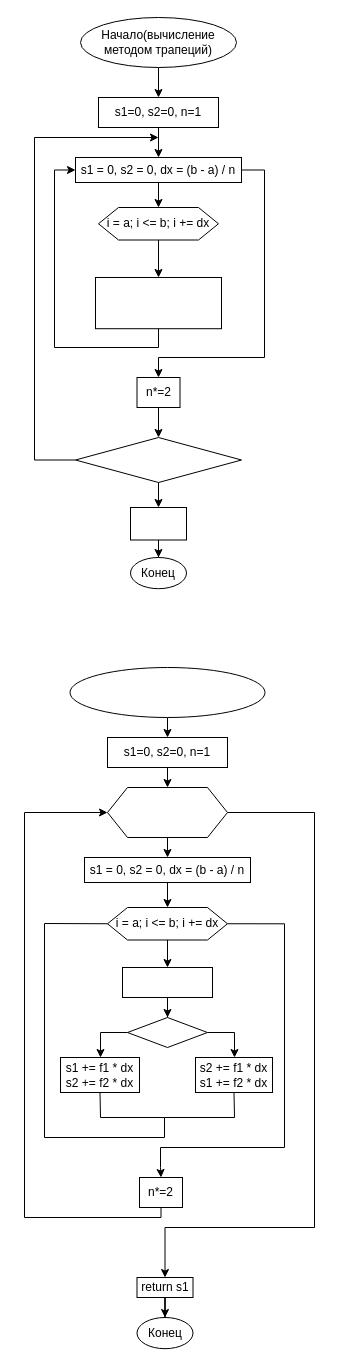
The diagram is 340 pixels wide and 1367 high, and some of its shapes have lost their labels. Here are the shapes that lost their labels. From the top down, the centre of each, then its label:
the point at 158,302: f1 = f(i) f2 = f(i + dx) s1 += (dx * (f1 + f2) / 2)
the point at 158,459: abs(f(i) - f(i + dx)) >= eps
the point at 158,523: n/=2 return s1
the point at 167,692: Начало(вычисление методом прямоугольников)
the point at 167,812: abs(s2 - s1) >= eps
the point at 167,982: f1 = f(i) f2 = f(i + dx)
the point at 167,1032: f1<=f2
